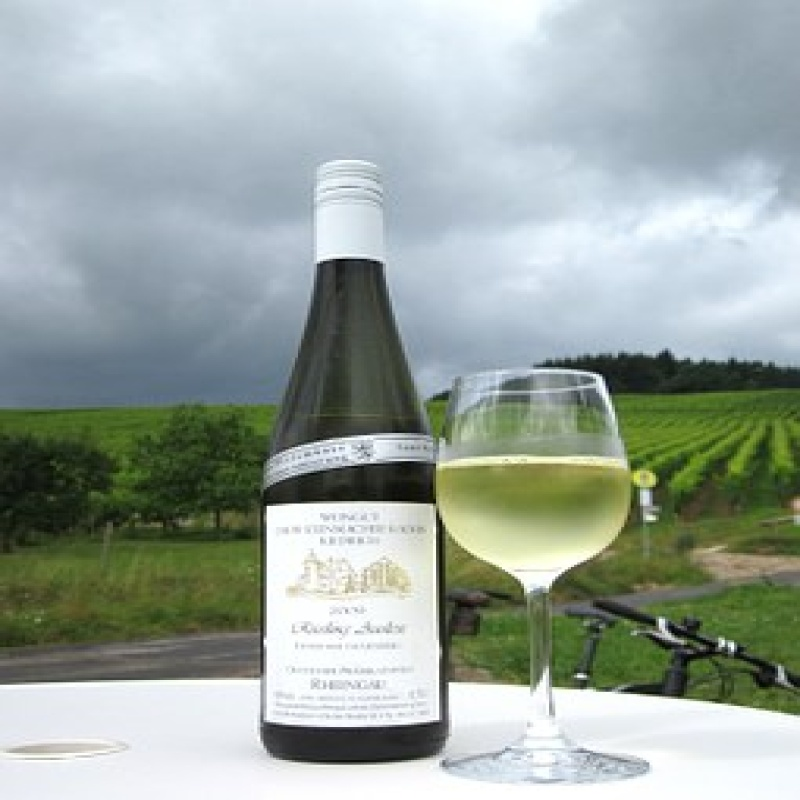wine: (264, 158, 453, 766)
